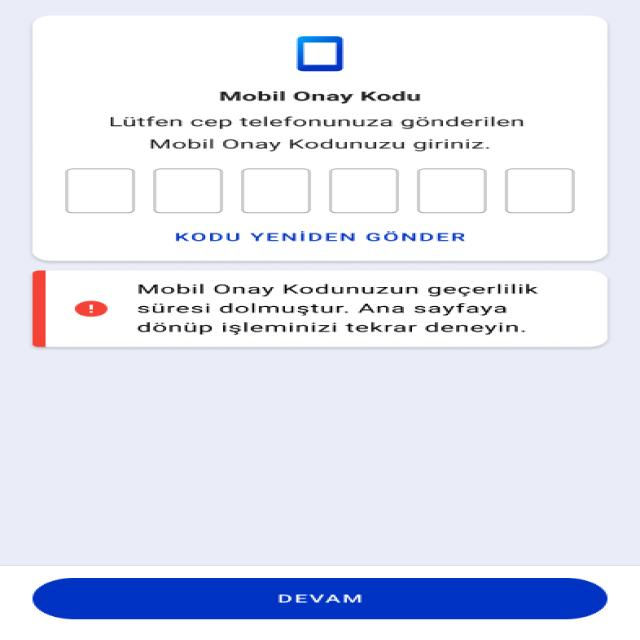QLabel: (272, 591, 372, 606)
VBtn: (32, 578, 608, 621)
VCard: (33, 15, 606, 262)
VFooter: (0, 564, 640, 640)
